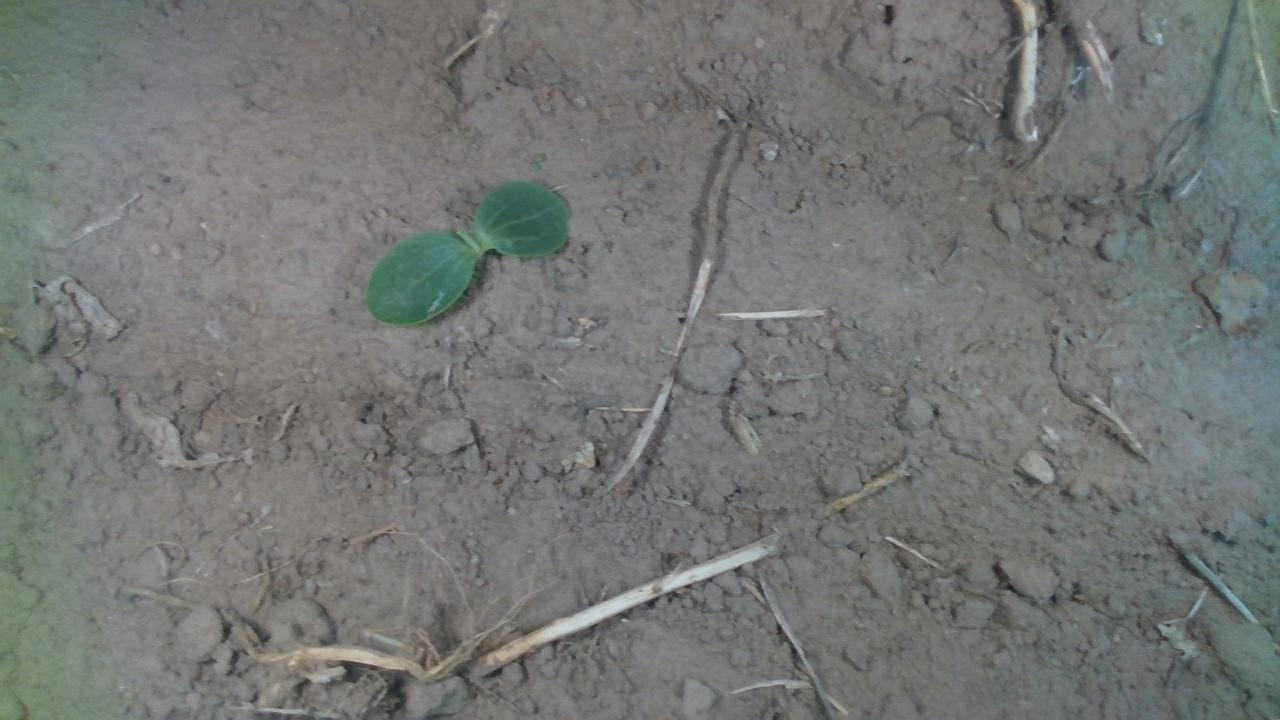crop: (361, 176, 571, 329)
